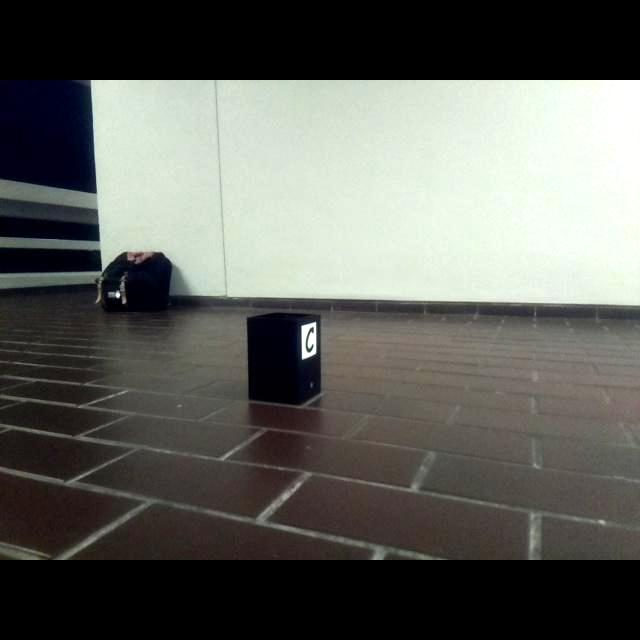C: (306, 328, 314, 353)
